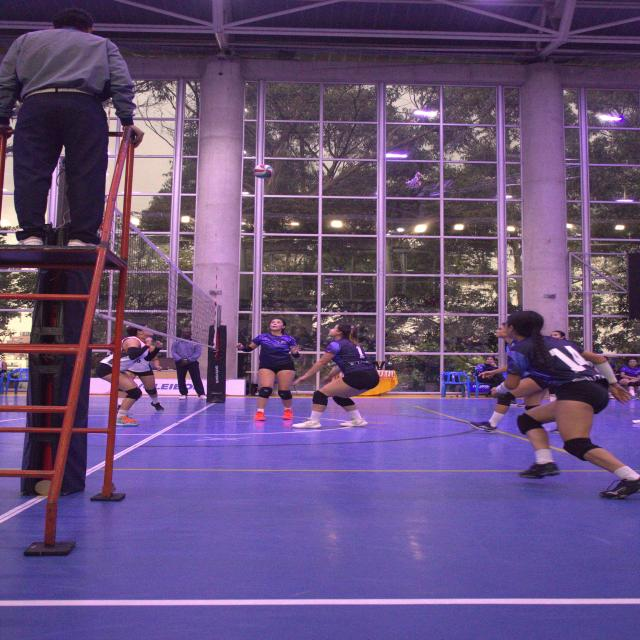volleyball: (253, 164, 274, 179)
